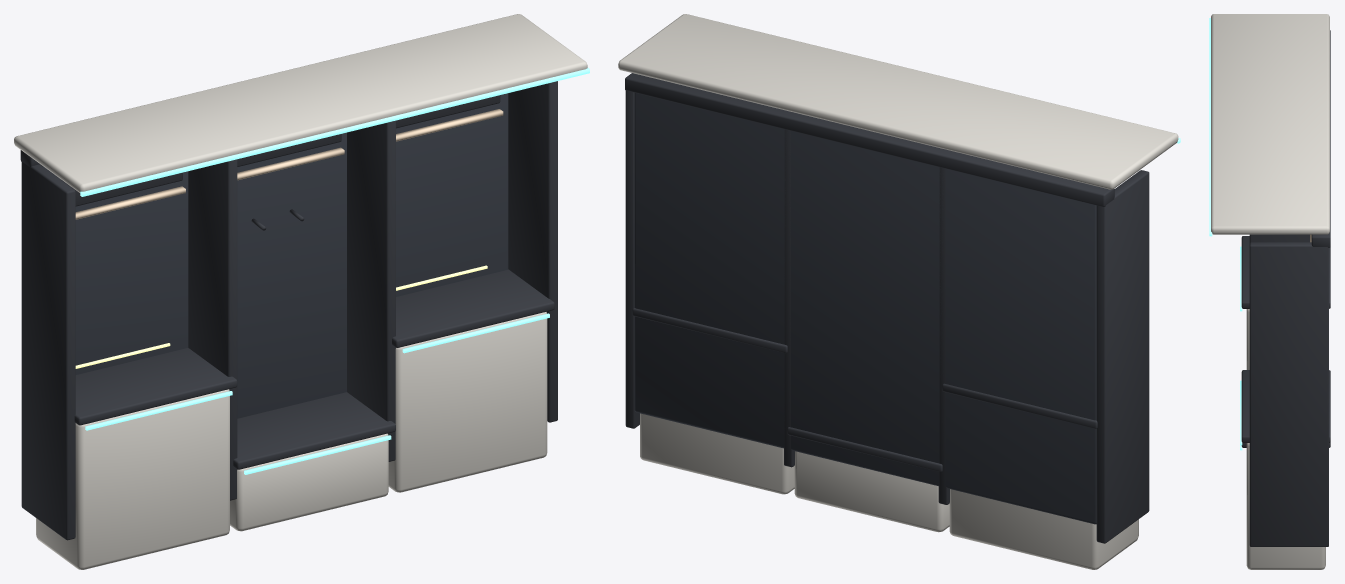
Rendered from ToolShed.fbx.
3 views of the same model, side by side, from view 1: azimuth 30°, elevation 25°; view 2: azimuth 150°, elevation 25°; view 3: azimuth 270°, elevation 25° (orthographic). The views are drawn at different scales.
Parts seen in each view (by area): view 1: Pegboard, Awning, Cabinet, Cabinet.002, Divider, Divider.002, Divider.003, Divider.001, Cabinet.001, Shelf, Shelf.002, Shelf.001 (+10 smaller); view 2: Pegboard, Awning, Divider, Frame, Cabinet, Cabinet.001, Cabinet.002, Divider.003, Divider.001, Divider.002, Shelf.002, Shelf (+1 smaller); view 3: Awning, Divider.003, Cabinet.002, Shelf.002, Shelf, Divider.002, Frame, Awning light, Cabinet.
Boxes of the visible parts, left/top/right/bottom form: Pegboard: left=42, top=93, right=508, bottom=418; Awning: left=14, top=14, right=587, bottom=192; Cabinet: left=36, top=389, right=229, bottom=569; Cabinet.002: left=388, top=312, right=547, bottom=492; Divider: left=21, top=162, right=75, bottom=540; Divider.002: left=347, top=120, right=395, bottom=461; Divider.003: left=508, top=81, right=557, bottom=422; Divider.001: left=188, top=159, right=237, bottom=500; Cabinet.001: left=230, top=433, right=388, bottom=531; Shelf: left=74, top=348, right=237, bottom=425; Shelf.002: left=392, top=269, right=554, bottom=347; Shelf.001: left=233, top=392, right=395, bottom=469; Pegboard: left=634, top=93, right=1096, bottom=524; Awning: left=618, top=14, right=1178, bottom=189; Divider: left=1096, top=170, right=1149, bottom=543; Frame: left=625, top=73, right=1114, bottom=206; Cabinet: left=949, top=489, right=1138, bottom=569; Cabinet.001: left=794, top=451, right=949, bottom=532; Cabinet.002: left=640, top=413, right=794, bottom=494; Divider.003: left=625, top=90, right=639, bottom=428; Divider.001: left=938, top=167, right=949, bottom=504; Divider.002: left=784, top=129, right=794, bottom=467; Shelf.002: left=632, top=308, right=787, bottom=353; Shelf: left=942, top=383, right=1097, bottom=428; Awning: left=1211, top=14, right=1329, bottom=234; Divider.003: left=1249, top=242, right=1328, bottom=546; Cabinet.002: left=1246, top=443, right=1325, bottom=569; Shelf.002: left=1241, top=370, right=1330, bottom=442; Shelf: left=1241, top=236, right=1330, bottom=308; Divider.002: left=1249, top=234, right=1309, bottom=243; Frame: left=1311, top=30, right=1330, bottom=247; Awning light: left=1209, top=18, right=1212, bottom=236; Cabinet: left=1246, top=309, right=1249, bottom=369.
Bounding box in the file's own units: 3.2 × 2.45 × 0.765.
